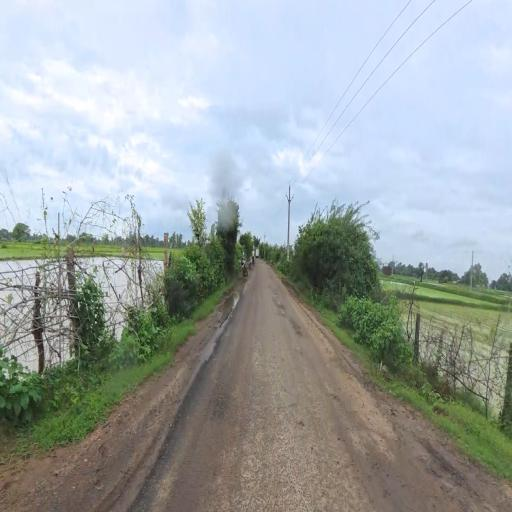edge_damage: (180, 297, 255, 432)
